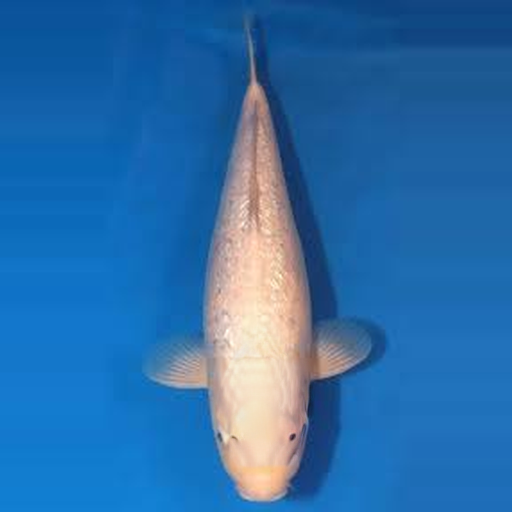white: (144, 7, 374, 503)
